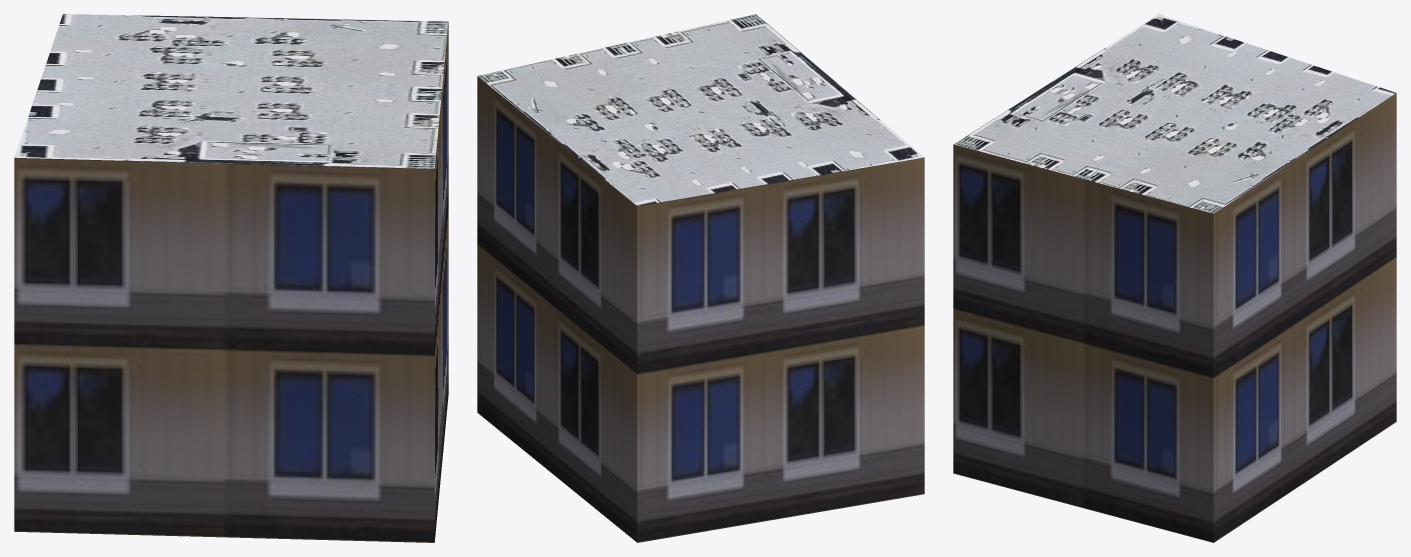
Rendered from ResTex__826.fbx.
3 views of the same model, side by side, from view 1: azimuth 30°, elevation 25°; view 2: azimuth 150°, elevation 25°; view 3: azimuth 270°, elevation 25° (orthographic). The views are drawn at different scales.
Parts seen in each view (by area): view 1: CityEngineMaterial_5_m, CityEngineMaterial_4_m; view 2: CityEngineMaterial_5_m, CityEngineMaterial_4_m; view 3: CityEngineMaterial_5_m, CityEngineMaterial_4_m.
Boxes of the visible parts, <box> form: CityEngineMaterial_5_m: <box>14,22,448,542</box>; CityEngineMaterial_4_m: <box>14,14,448,168</box>; CityEngineMaterial_5_m: <box>477,76,924,542</box>; CityEngineMaterial_4_m: <box>478,14,924,206</box>; CityEngineMaterial_5_m: <box>953,93,1396,542</box>; CityEngineMaterial_4_m: <box>954,14,1395,213</box>.
Size of the model in its own units: 7.82 by 6 by 7.32.
Materials: 2 (2 with a texture image).
